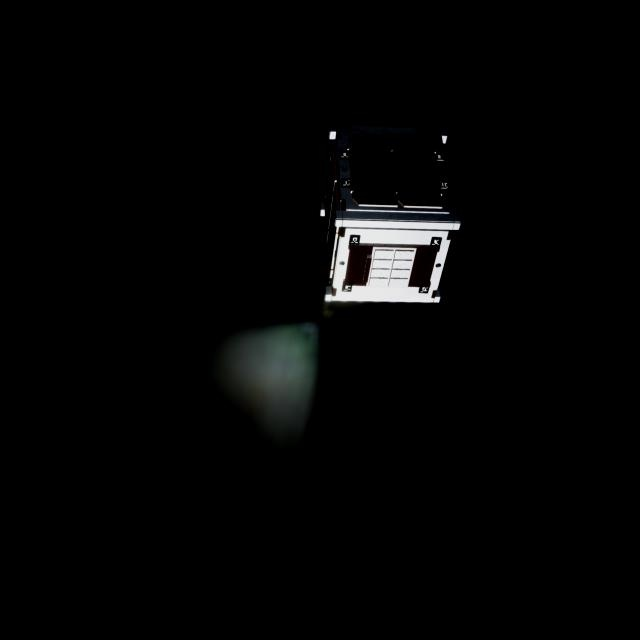medium_debris: (318, 113, 465, 319)
